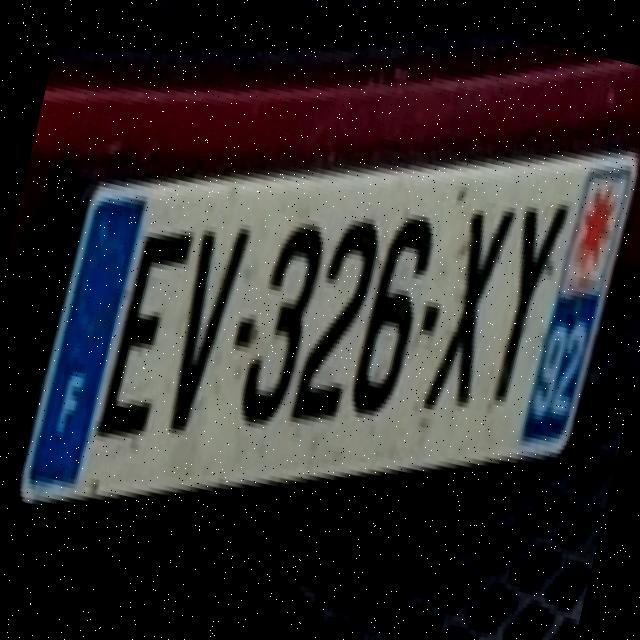EU: (15, 158, 637, 506)
France: (27, 200, 146, 483)
